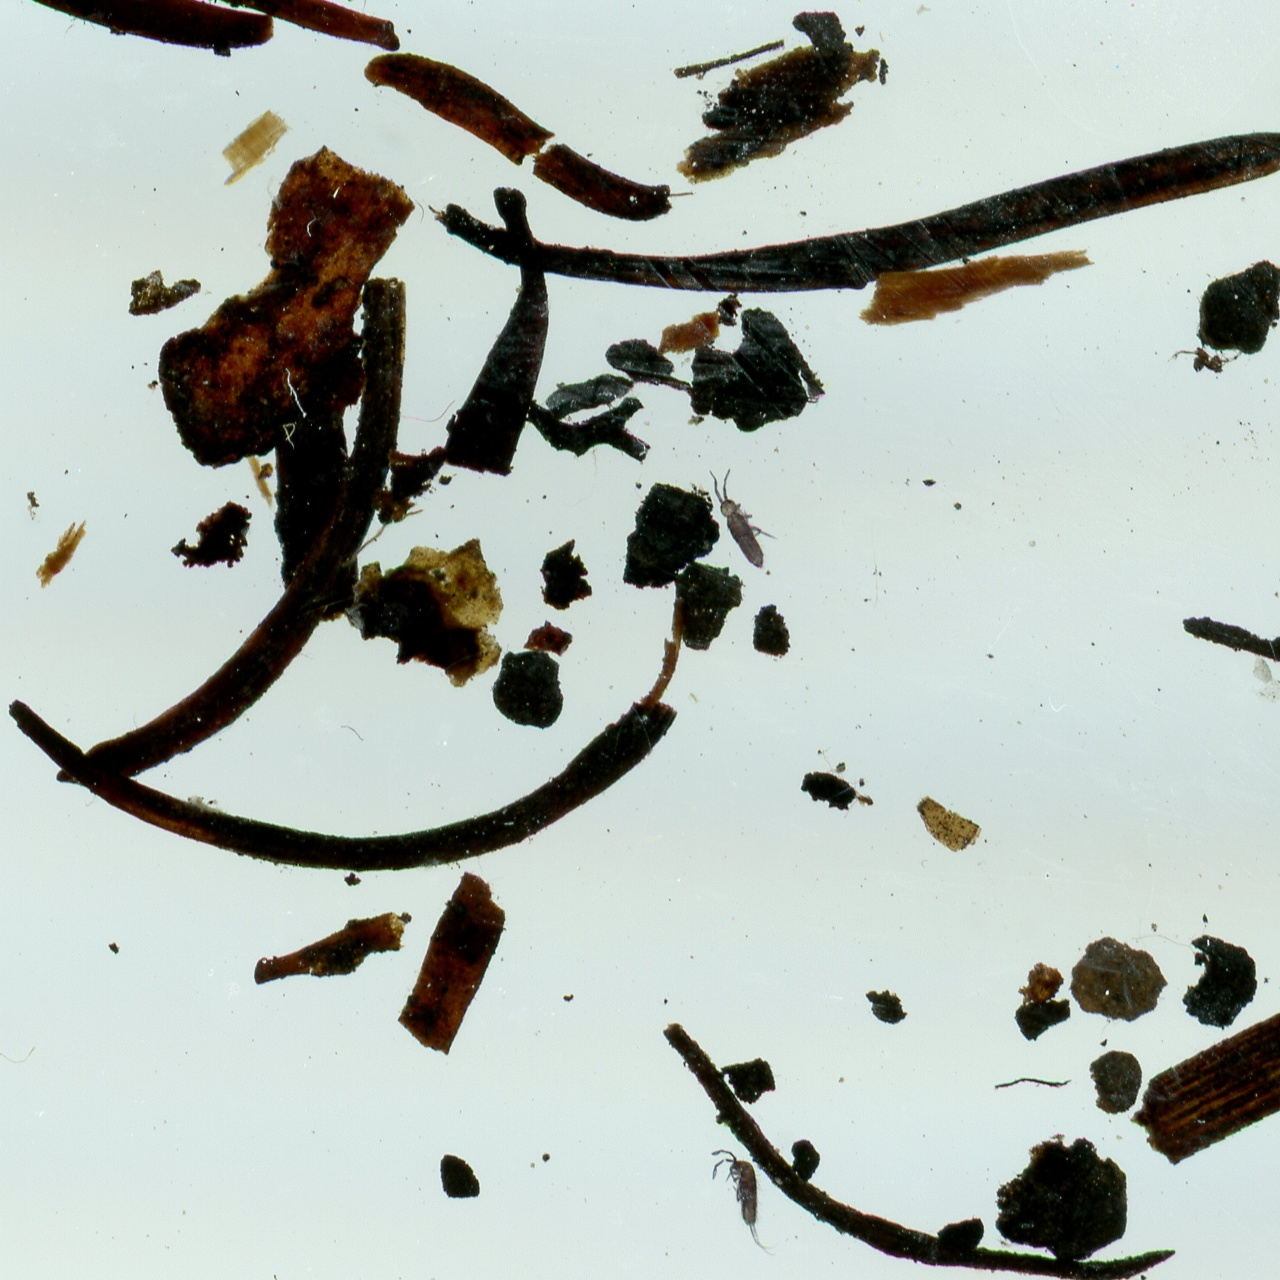arthropod: (691, 446, 798, 590), (709, 1135, 783, 1270)
